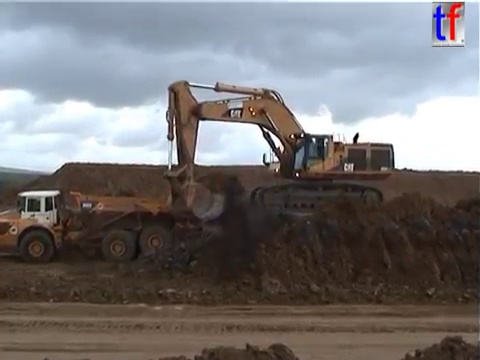excavator: (160, 77, 397, 224)
truck: (1, 187, 210, 264)
